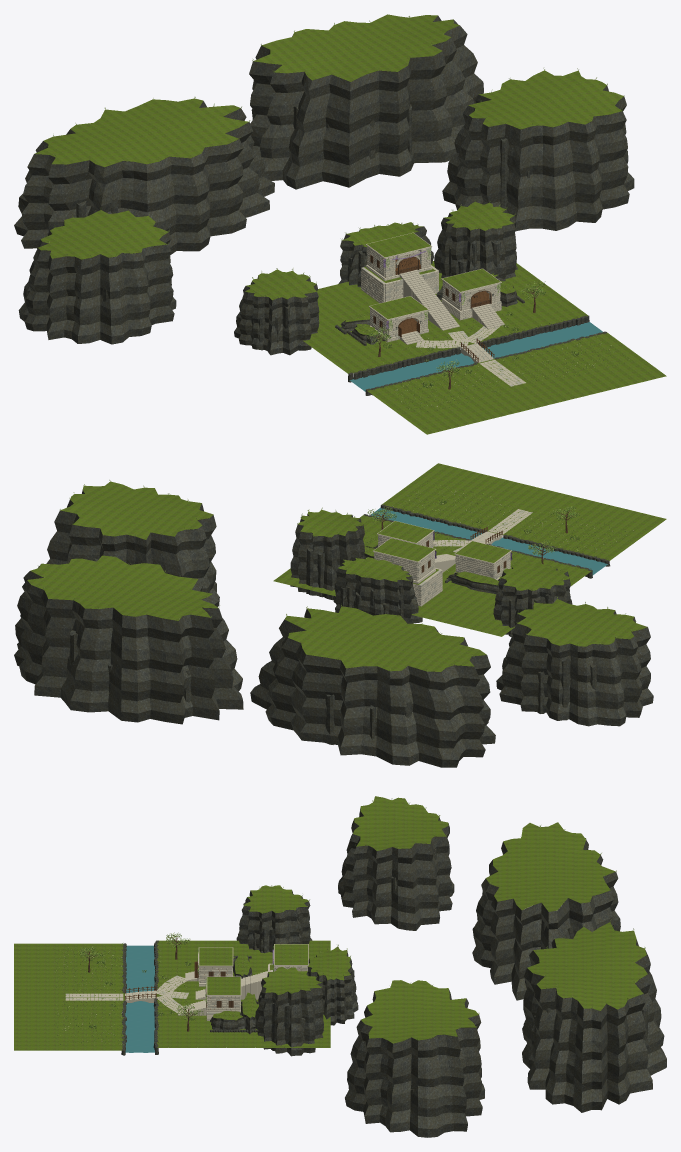
Rendered from courtyard-v1-draco.glb.
The picture shows the model from 3 angles, top to bottom: view 1: azimuth 30°, elevation 25°; view 2: azimuth 150°, elevation 25°; view 3: azimuth 270°, elevation 25°; orthographic projection. The views are drawn at different scales.
Visible parts, largest first — view 1: Rock, Grass, Limestone, Water_Static, Leaf_Light, Thin worn paving, Limestone_Shade, Leaf, Oak, Dark_Oak; view 2: Rock, Grass, Limestone, Water_Static, Leaf_Light, Limestone_Shade, Leaf, Thin worn paving; view 3: Rock, Grass, Water_Static, Limestone, Leaf_Light, Thin worn paving, Leaf.
Part boxes in pixels (x1,y1,x2,y2): Rock: (14, 16, 634, 395); Grass: (34, 14, 666, 434); Limestone: (361, 232, 504, 362); Water_Static: (349, 322, 602, 391); Leaf_Light: (46, 16, 629, 411); Thin worn paving: (416, 326, 525, 385); Limestone_Shade: (361, 248, 521, 386); Leaf: (48, 16, 627, 411); Oak: (370, 255, 494, 362); Dark_Oak: (370, 255, 539, 389); Rock: (14, 490, 653, 767); Grass: (27, 463, 666, 671); Limestone: (372, 521, 511, 606); Water_Static: (370, 508, 607, 575); Leaf_Light: (38, 480, 635, 671); Limestone_Shade: (374, 510, 532, 603); Leaf: (38, 483, 635, 670); Thin worn paving: (433, 509, 530, 552); Rock: (121, 808, 666, 1137); Grass: (14, 796, 647, 1050); Water_Static: (125, 945, 155, 1052); Limestone: (125, 944, 308, 1020); Leaf_Light: (53, 798, 645, 1044); Thin worn paving: (65, 976, 188, 1013); Leaf: (54, 798, 645, 1044).
Bounding box in the file's own units: 163 × 27.81 × 165.
16 materials, 4 textured.
